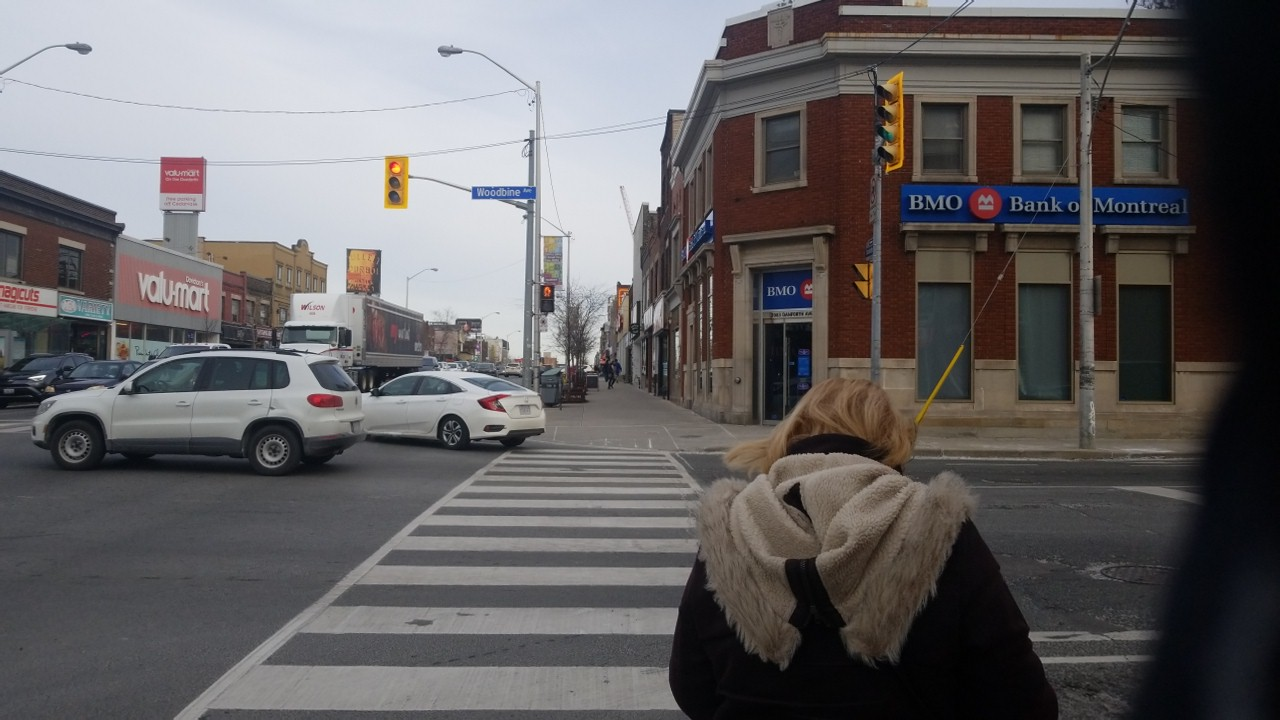light: (536, 283, 555, 314)
